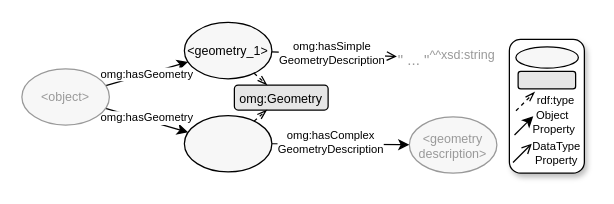
This 614x204 diagram has some shape labels left out. The shapes that lost their labels are listed below. From the top down, each one's centre as x and y in pixels, then its label:
(x=546, y=57): Individual
(x=546, y=79): Class
(x=227, y=143): <geometry_2>
